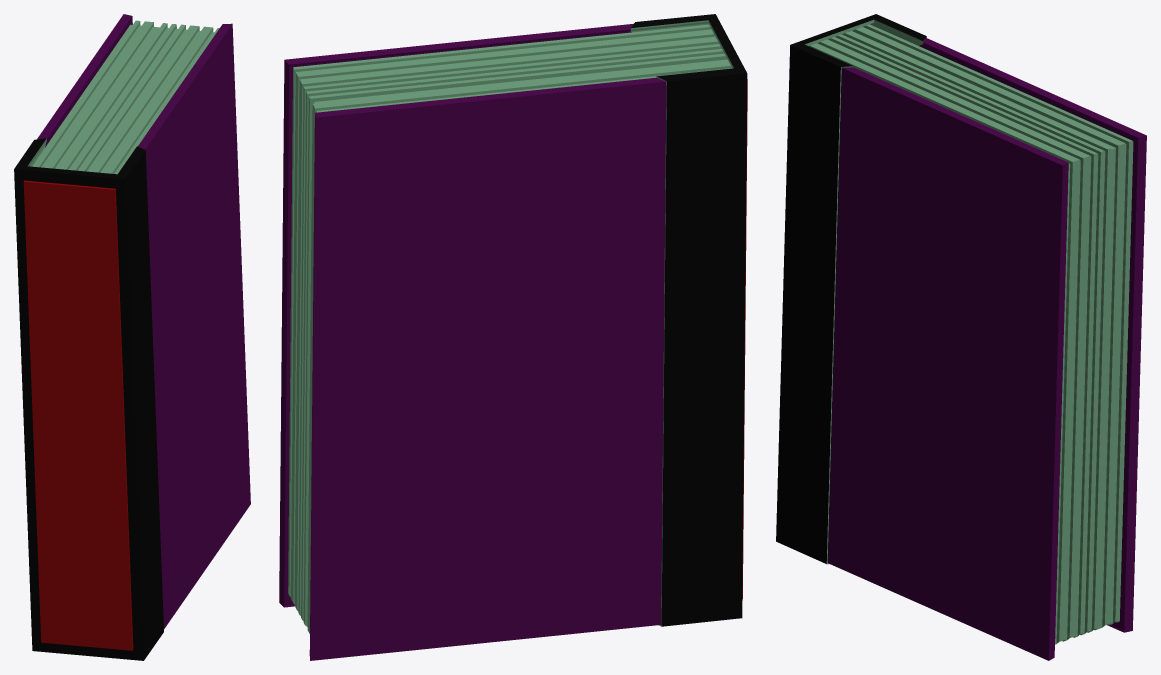
Rendered from SecondShelfBook4.fbx.
3 views of the same model, side by side, from view 1: azimuth 30°, elevation 25°; view 2: azimuth 150°, elevation 25°; view 3: azimuth 270°, elevation 25° (orthographic). The views are drawn at different scales.
Visible parts, largest first — view 1: Book.016; view 2: Book.016; view 3: Book.016.
Boxes of the visible parts, bbox=[...] form: Book.016: bbox=[14, 14, 250, 660]; Book.016: bbox=[279, 14, 747, 660]; Book.016: bbox=[776, 14, 1146, 660].
Size of the model in its own units: 122 by 176 by 120.
